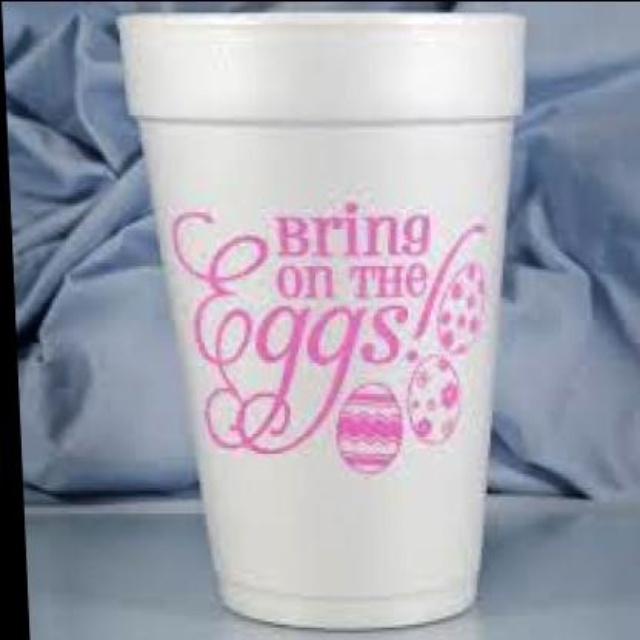trash: (120, 12, 523, 628)
